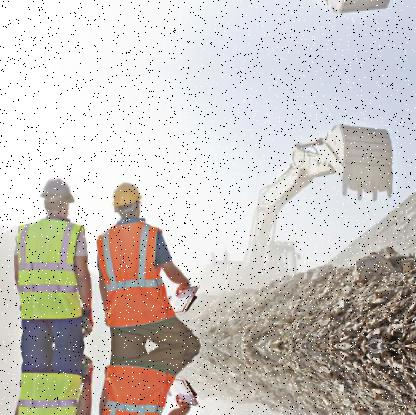helmet: (36, 172, 75, 220), (108, 175, 143, 222)
